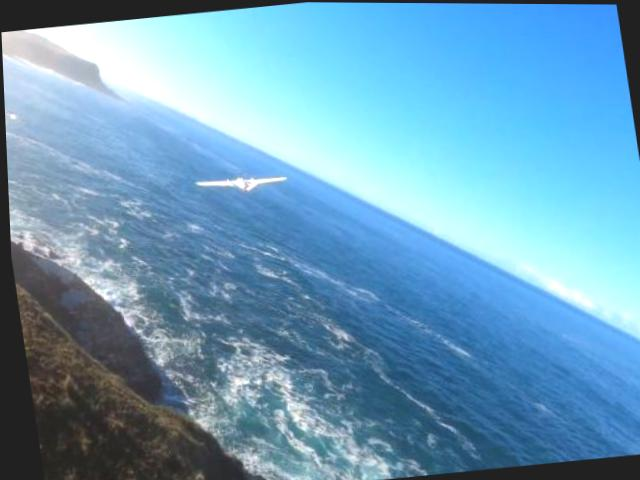uav: (192, 167, 290, 200)
